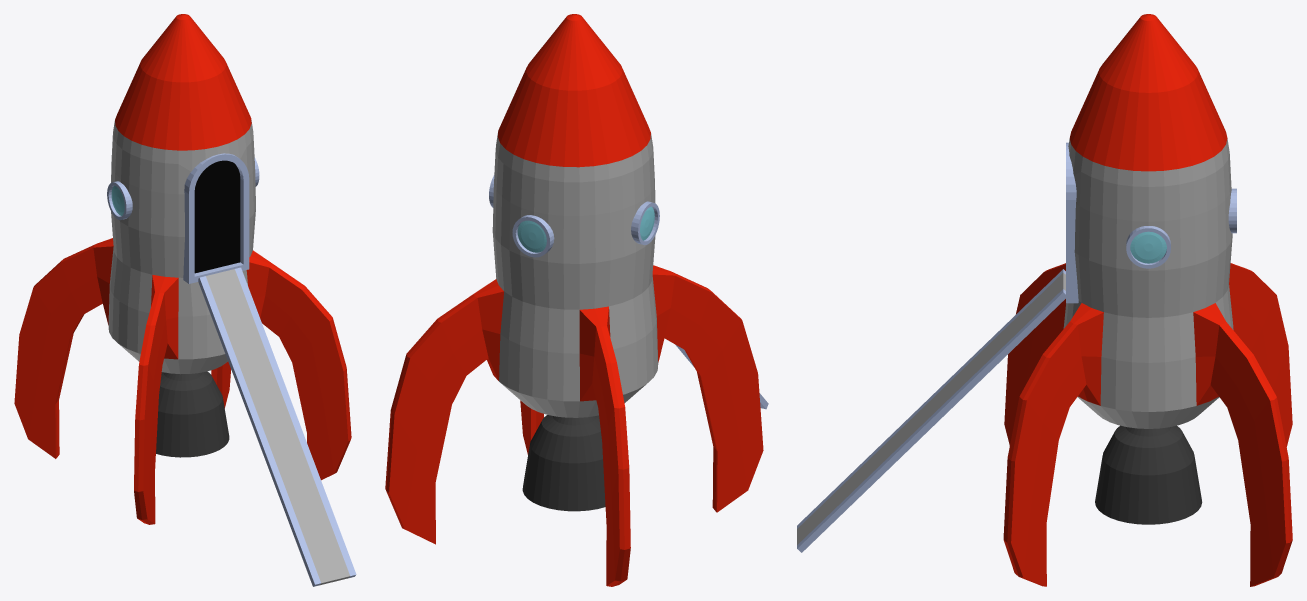
File: RocketShip.fbx
The picture shows the model from 3 angles, left to right: view 1: azimuth 30°, elevation 25°; view 2: azimuth 150°, elevation 25°; view 3: azimuth 270°, elevation 25°; orthographic projection. The views are drawn at different scales.
Parts seen in each view (by area): view 1: Cylinder; view 2: Cylinder; view 3: Cylinder.
Part boxes in pixels (x1,y1,x2,y2): Cylinder: (14, 14, 356, 586); Cylinder: (385, 14, 768, 586); Cylinder: (797, 14, 1292, 586).
Bounding box in the file's own units: 362 × 722 × 616.
